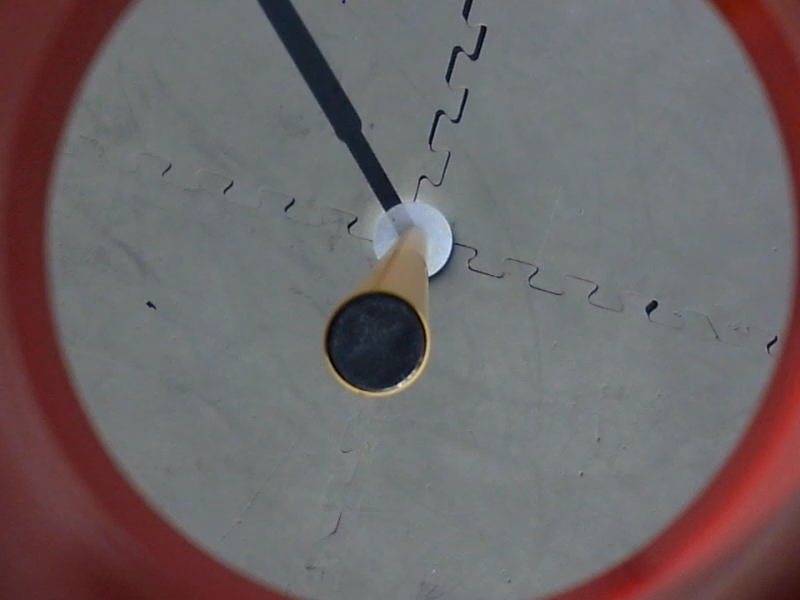tip: (320, 286, 436, 400)
